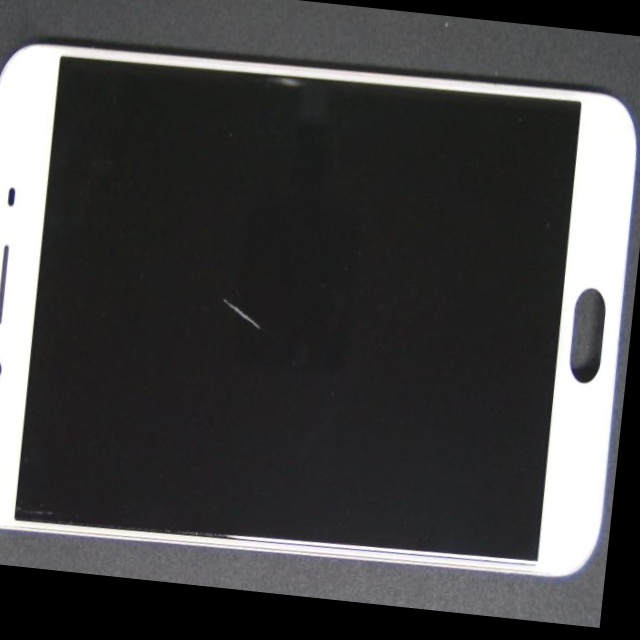scratch: (85, 155, 414, 530)
